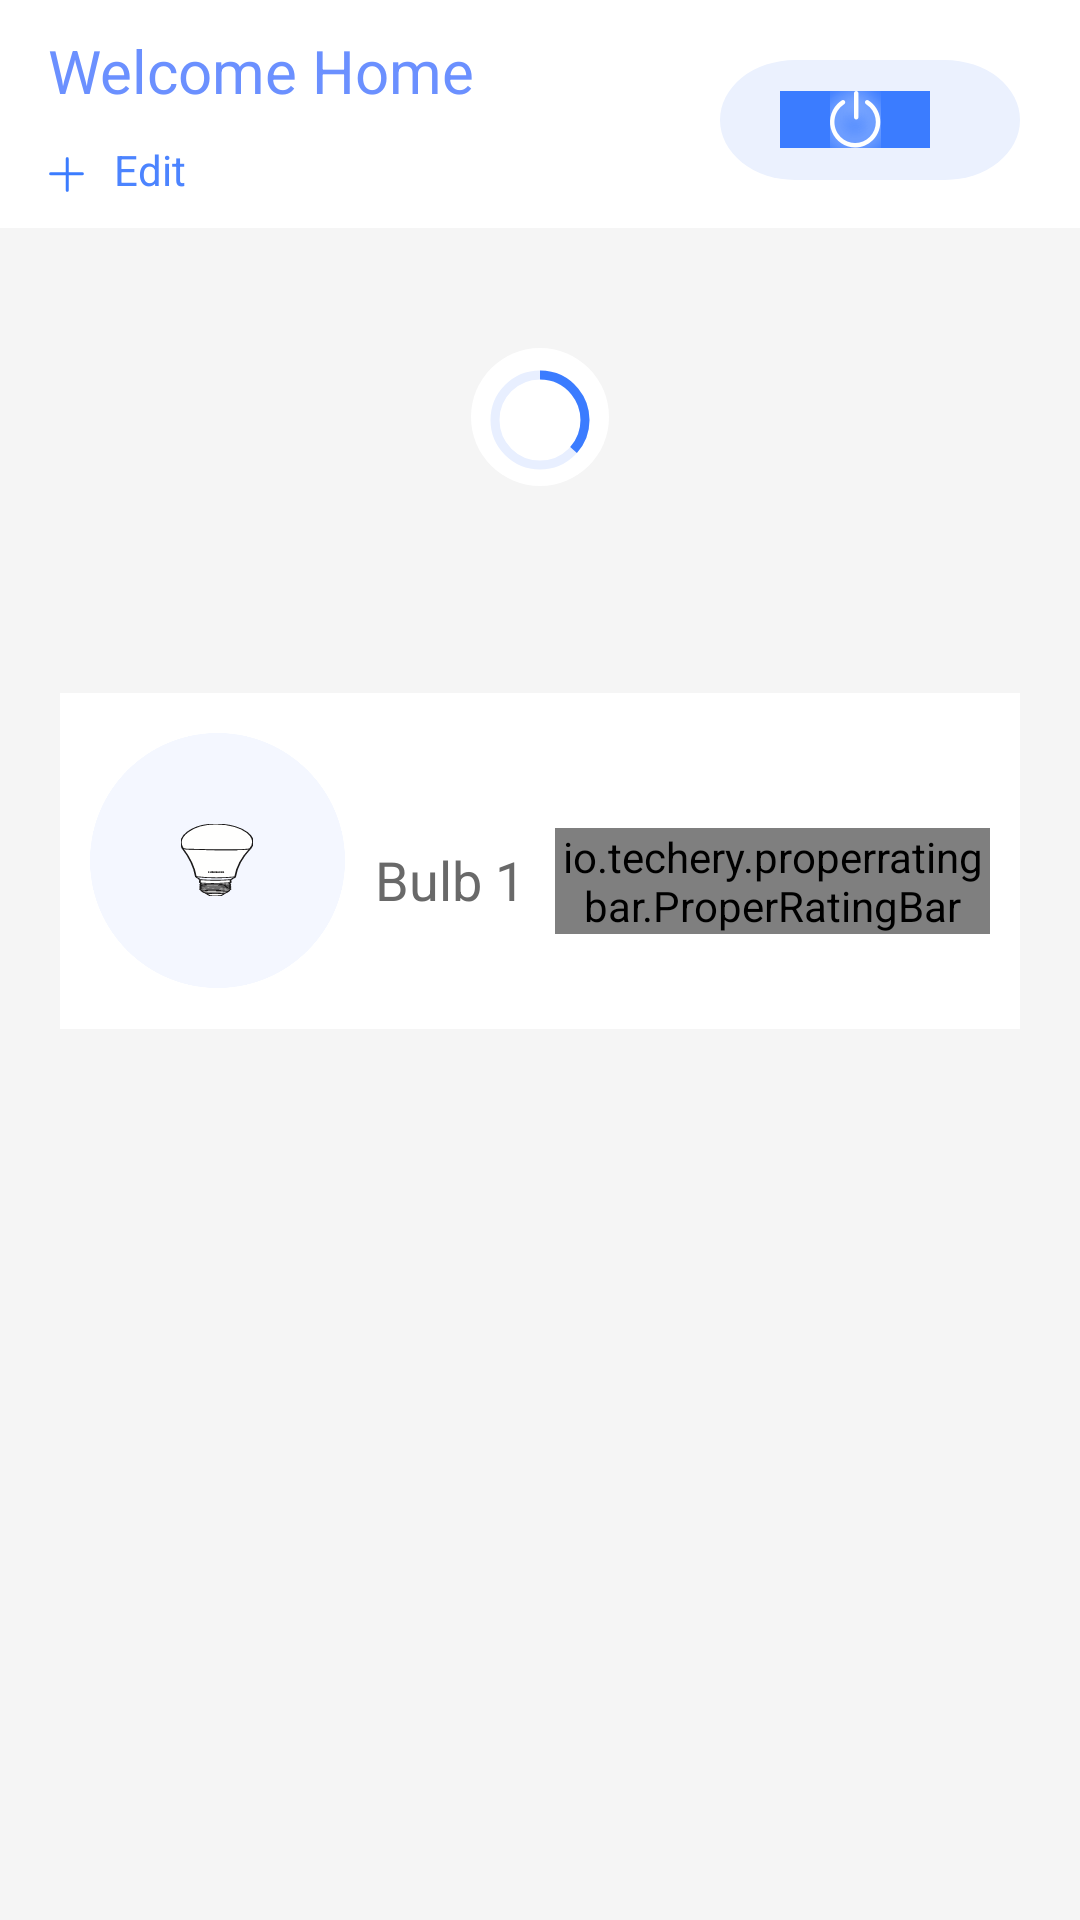

Locate icon controls on the screen. Image size 1080x1920, boxes as (x1, y1, x2, y2).
addbutton: (49, 157, 84, 192)
bulbwhite: (181, 824, 253, 896)
power on: (780, 91, 930, 148)
